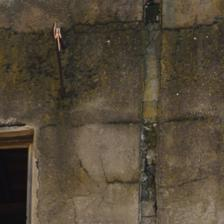Crack: (39, 62, 107, 161), (62, 18, 81, 123), (50, 37, 88, 87), (68, 38, 88, 77), (6, 12, 28, 34), (58, 88, 76, 105)
